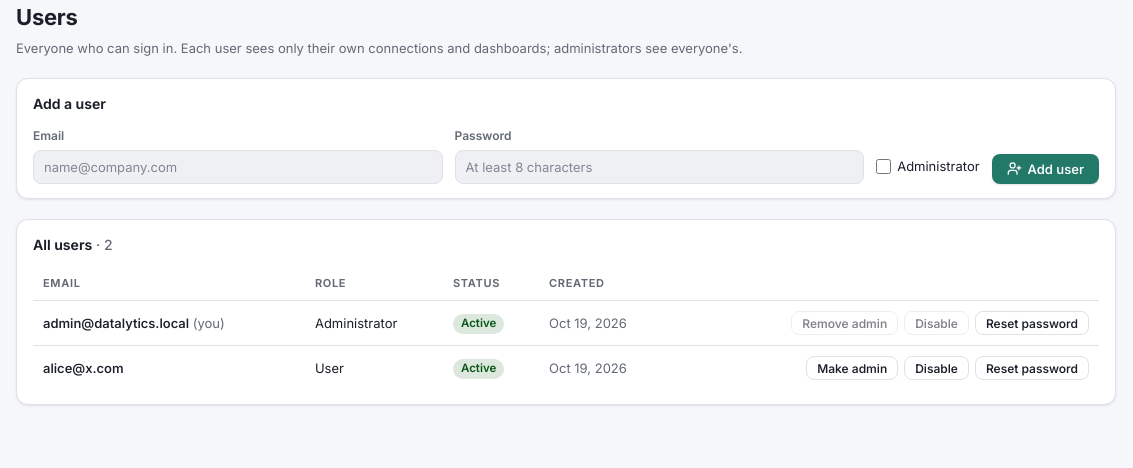
Test: Users page › adds a user
Expected: the text "alice@x.com" is shown, [33, 346, 305, 390]
Type "bob@x.com" into the field labelled "Email" at (238,166), box [33, 150, 443, 184]
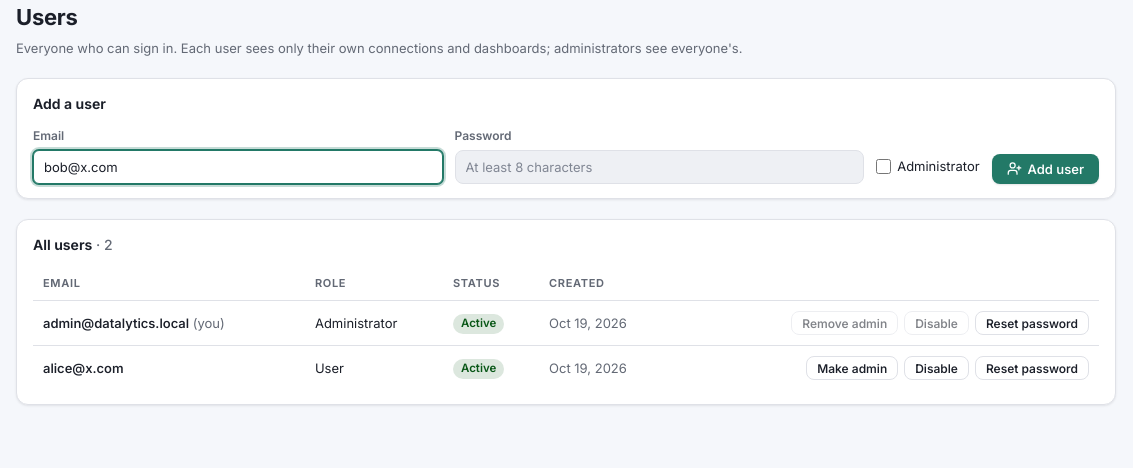
Type "bob-password" into the password field labelled "Password" at (659,166), box [455, 150, 864, 184]
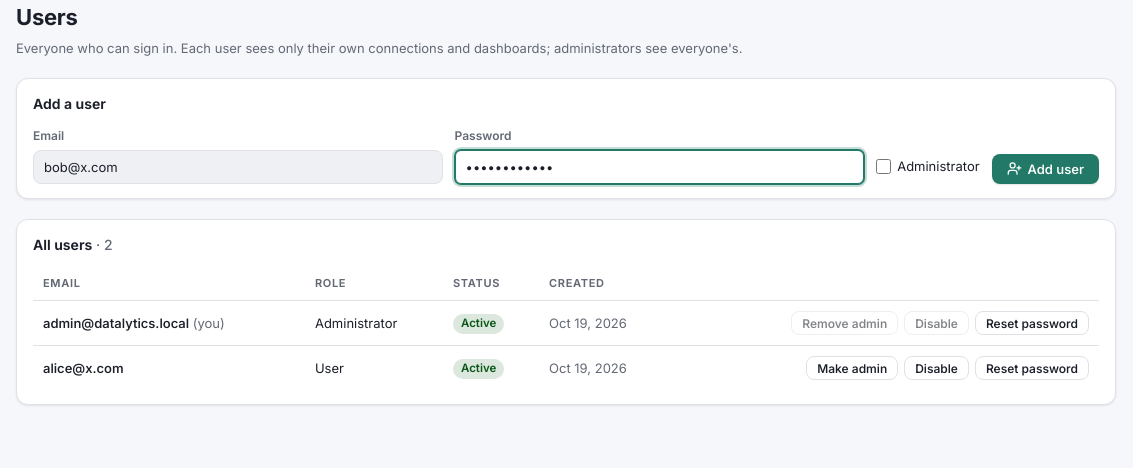
Click the checkbox labelled "Administrator" at (884,166), box [876, 159, 891, 174]
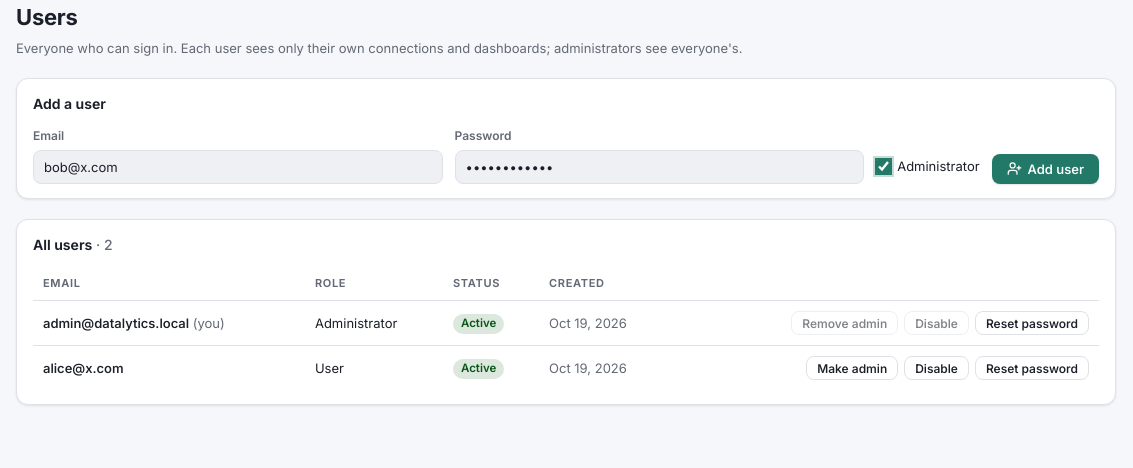
Click the button "Add user" at (1045,168), box [992, 154, 1099, 184]
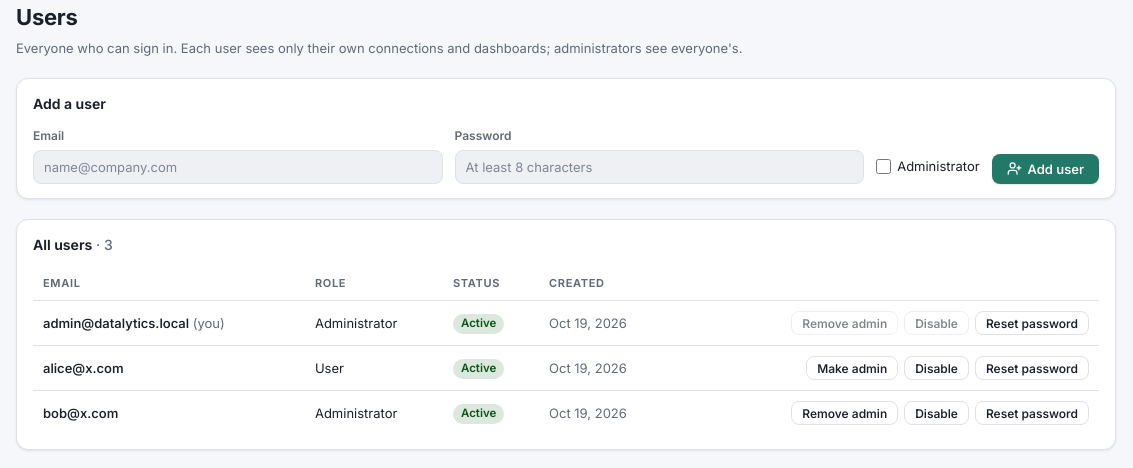
Expected: the text "bob@x.com" shows "Administrator", [315, 405, 397, 421]
Expected: the field labelled "Email" is empty, [33, 150, 443, 184]
